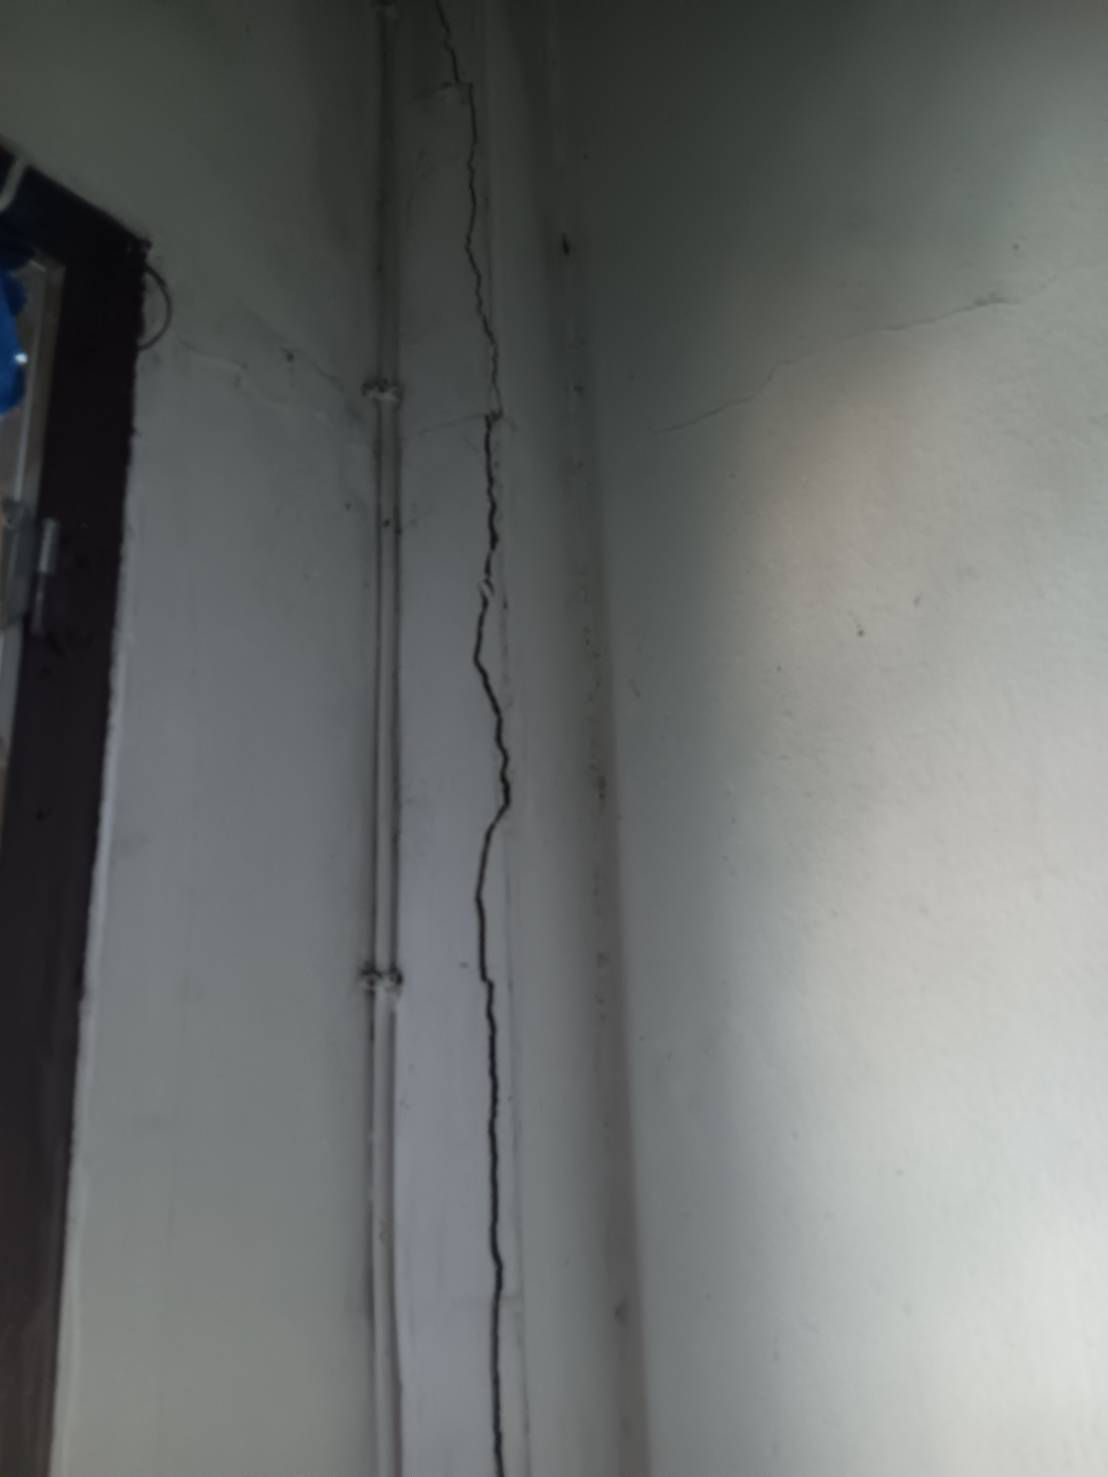High: (392, 9, 571, 1477)
